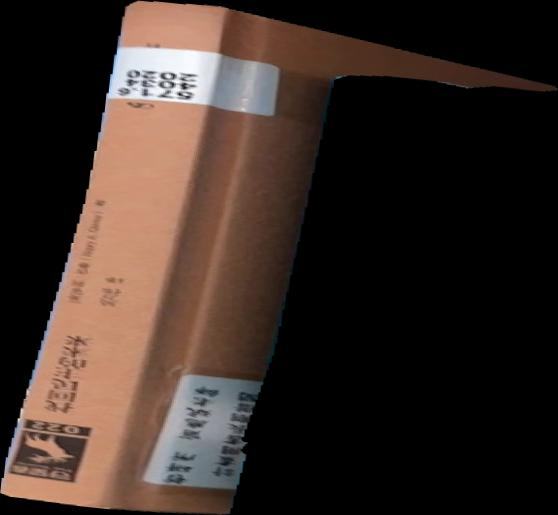reverse: (1, 1, 558, 515)
